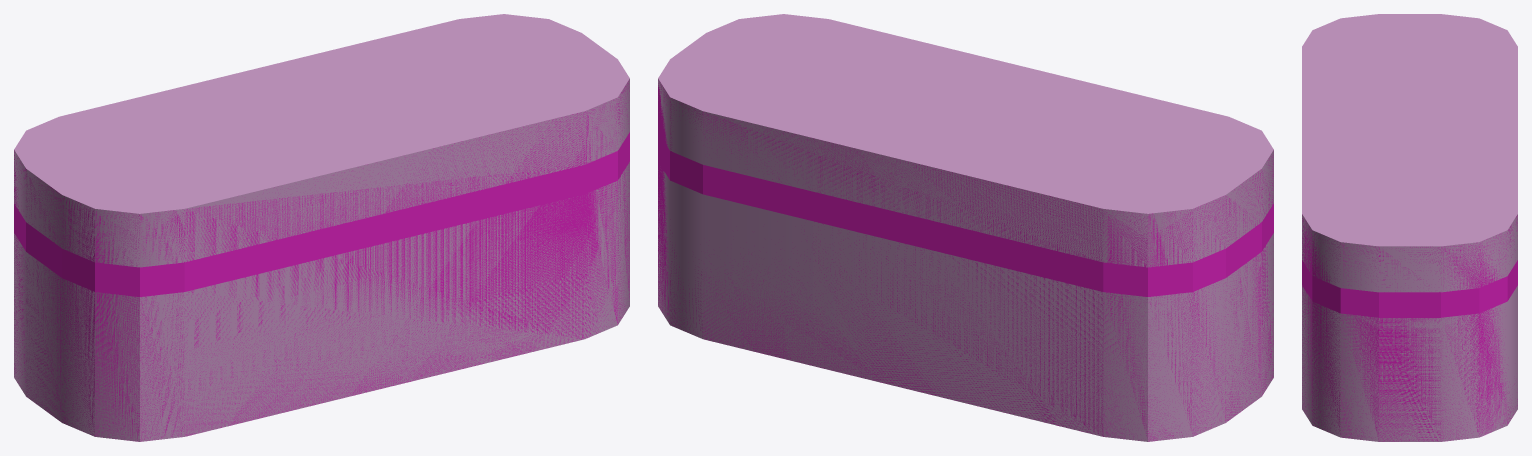
File: building18.fbx
3 views of the same model, side by side, from view 1: azimuth 30°, elevation 25°; view 2: azimuth 150°, elevation 25°; view 3: azimuth 270°, elevation 25° (orthographic). The views are drawn at different scales.
Parts seen in each view (by area): view 1: building18_MESH, building18_COL; view 2: building18_MESH, building18_COL; view 3: building18_MESH, building18_COL.
Part boxes in pixels (left/top/right/bottom): building18_MESH: left=14, top=14, right=629, bottom=441; building18_COL: left=14, top=80, right=629, bottom=441; building18_MESH: left=658, top=14, right=1273, bottom=441; building18_COL: left=658, top=80, right=1273, bottom=441; building18_MESH: left=1302, top=14, right=1517, bottom=441; building18_COL: left=1302, top=214, right=1517, bottom=441.
Bounding box in the file's own units: 400 × 1020 × 400.
